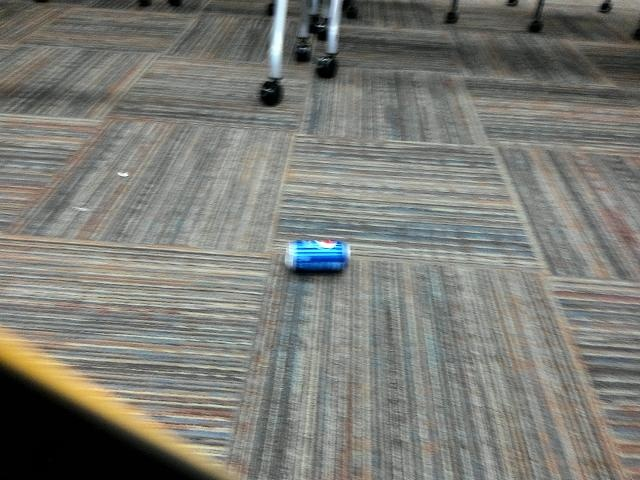can: (281, 233, 357, 278)
